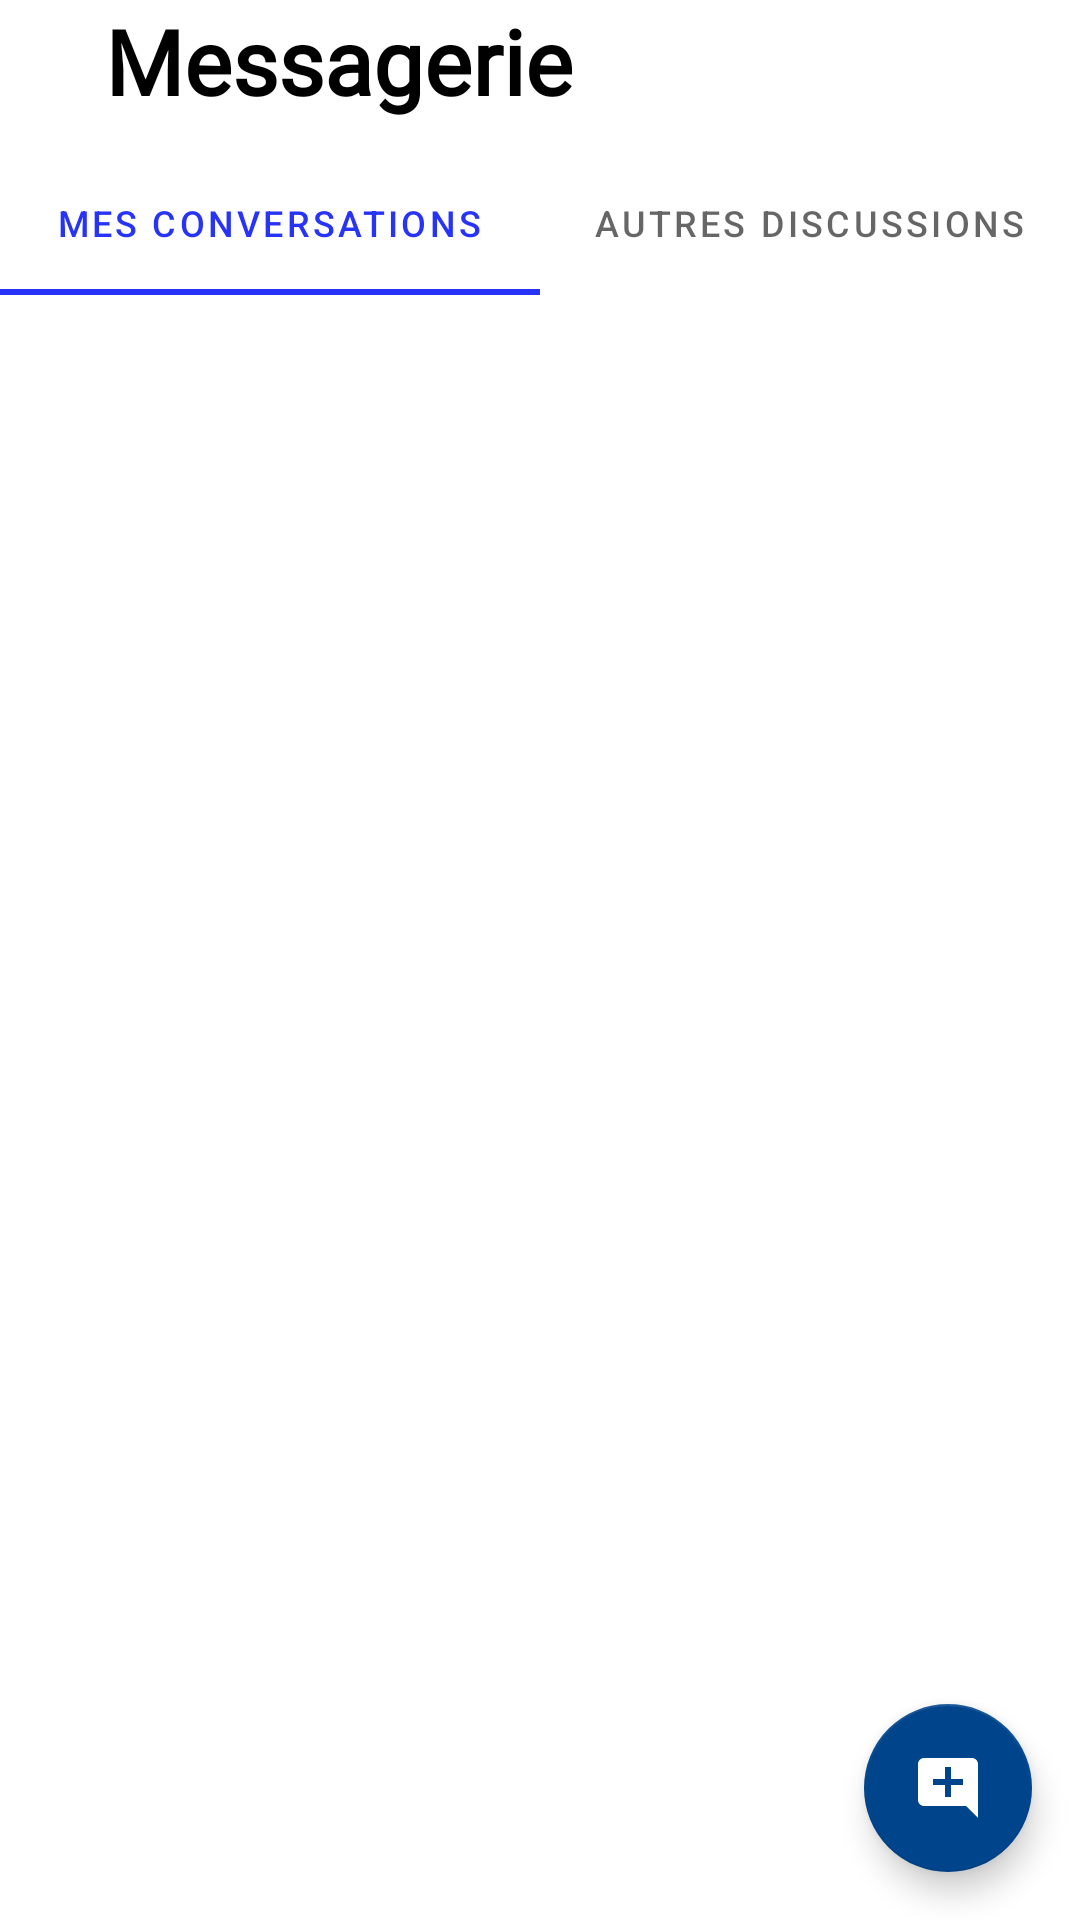

Screen size 1080w x 1920h. Icon name, then its center in pixels as (x,y):
Nouvelle discussion: (948,1788)
